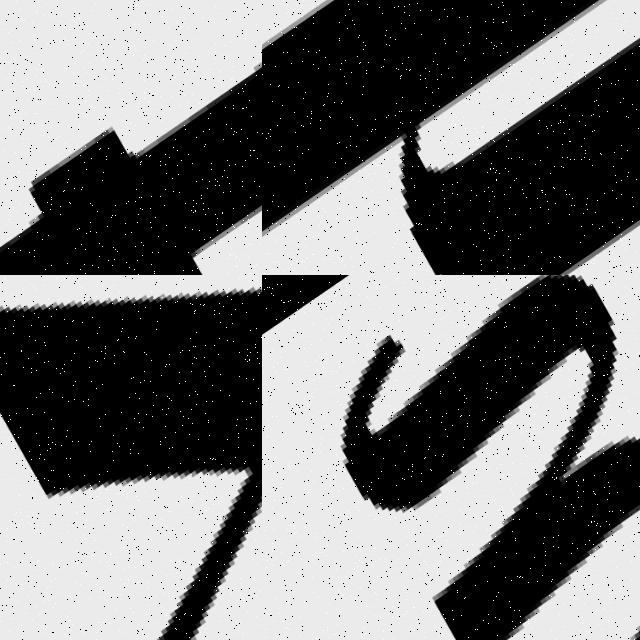H: (262, 0, 640, 275)
T: (0, 0, 262, 275)
W: (306, 275, 640, 640)
Y: (0, 275, 262, 640)
